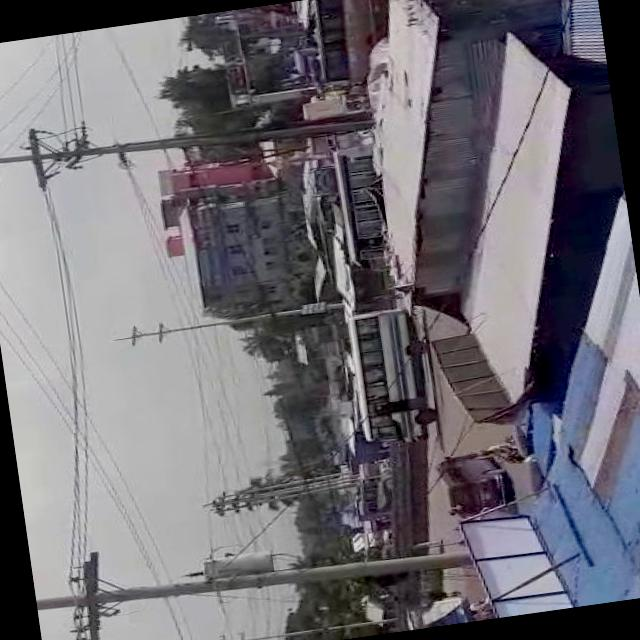bus: (343, 306, 432, 449), (330, 146, 399, 264), (301, 0, 387, 91), (342, 460, 396, 522), (402, 597, 473, 630)
motorcycle: (476, 435, 524, 471)
truck: (423, 448, 502, 520)
